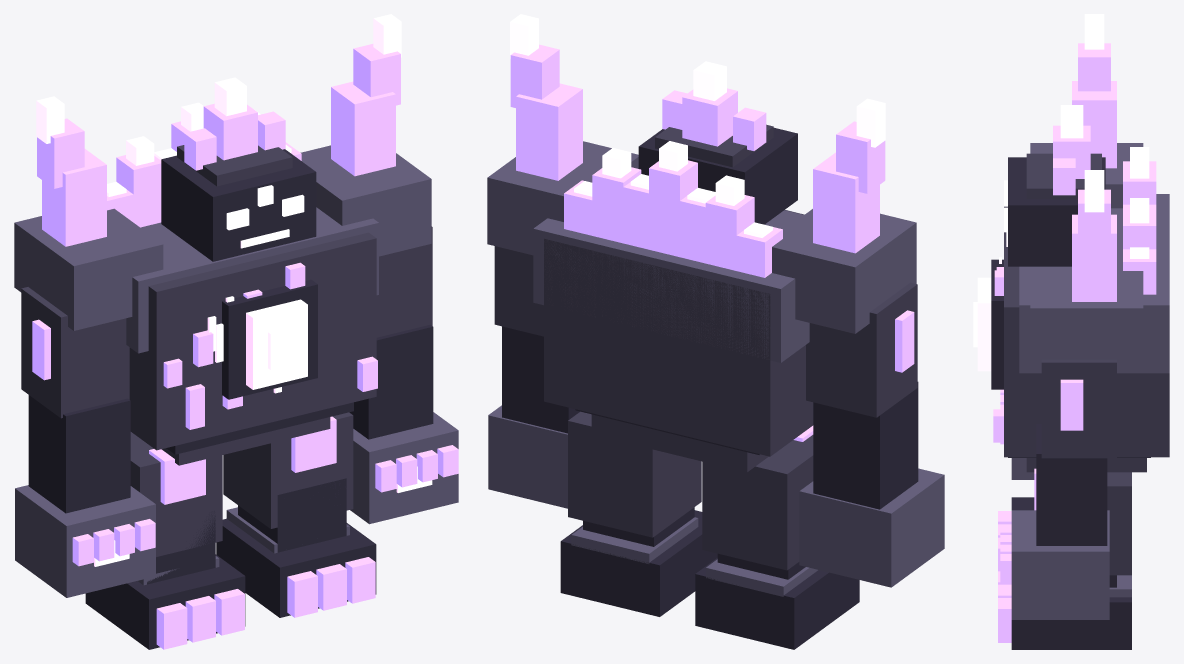
The model's file is boss-golem.glb.
The picture shows the model from 3 angles, left to right: view 1: azimuth 30°, elevation 25°; view 2: azimuth 150°, elevation 25°; view 3: azimuth 270°, elevation 25°; orthographic projection. The views are drawn at different scales.
Parts seen in each view (by area): view 1: body, body_shoulder_r, head, right_arm_fore, right_hand, right_arm, body_shoulder_l, left_leg, left_arm_fore, left_hand, left_foot, body_upper (+39 smaller); view 2: body, body_upper, right_hand, left_leg, body_shoulder_r, right_leg, right_arm_fore, right_arm, right_foot, left_foot, body_shoulder_l, left_hand (+30 smaller); view 3: body, body_shoulder_l, left_hand, left_arm_fore, left_arm, body_upper, head, left_foot, body_horn_l, left_leg, body_horn_r, head_top (+23 smaller).
Boxes of the visible parts, x1=… form: body: x1=129, y1=232, x2=376, y2=450; body_shoulder_r: x1=14, y1=208, x2=163, y2=330; head: x1=161, y1=149, x2=316, y2=261; right_arm_fore: x1=28, y1=395, x2=130, y2=513; right_hand: x1=15, y1=485, x2=155, y2=597; right_arm: x1=21, y1=287, x2=129, y2=418; body_shoulder_l: x1=300, y1=145, x2=431, y2=256; left_leg: x1=223, y1=412, x2=353, y2=528; left_arm_fore: x1=349, y1=324, x2=433, y2=439; left_hand: x1=350, y1=412, x2=458, y2=524; left_foot: x1=216, y1=518, x2=376, y2=617; body_upper: x1=126, y1=207, x2=378, y2=353; body: x1=544, y1=210, x2=813, y2=456; body_upper: x1=533, y1=210, x2=809, y2=362; right_hand: x1=799, y1=468, x2=944, y2=587; left_leg: x1=568, y1=411, x2=701, y2=537; body_shoulder_r: x1=772, y1=209, x2=916, y2=333; right_leg: x1=702, y1=435, x2=813, y2=570; right_arm_fore: x1=813, y1=382, x2=918, y2=509; right_arm: x1=806, y1=282, x2=917, y2=417; right_foot: x1=695, y1=558, x2=859, y2=649; left_foot: x1=560, y1=510, x2=717, y2=616; body_shoulder_l: x1=487, y1=141, x2=638, y2=255; left_hand: x1=488, y1=405, x2=567, y2=508; body: x1=1004, y1=206, x2=1169, y2=457; body_shoulder_l: x1=1030, y1=267, x2=1143, y2=369; left_hand: x1=1011, y1=510, x2=1109, y2=619; left_arm_fore: x1=1036, y1=424, x2=1107, y2=545; left_arm: x1=1041, y1=359, x2=1116, y2=458; body_upper: x1=1019, y1=194, x2=1169, y2=373; head: x1=1008, y1=157, x2=1105, y2=266; left_foot: x1=1011, y1=597, x2=1131, y2=649; body_horn_l: x1=1072, y1=214, x2=1116, y2=301; left_leg: x1=1107, y1=472, x2=1131, y2=575; body_horn_r: x1=1072, y1=81, x2=1116, y2=168; head_top: x1=1026, y1=153, x2=1101, y2=198.
Size of the model in its own units: 5.7 by 7.35 by 2.61.
